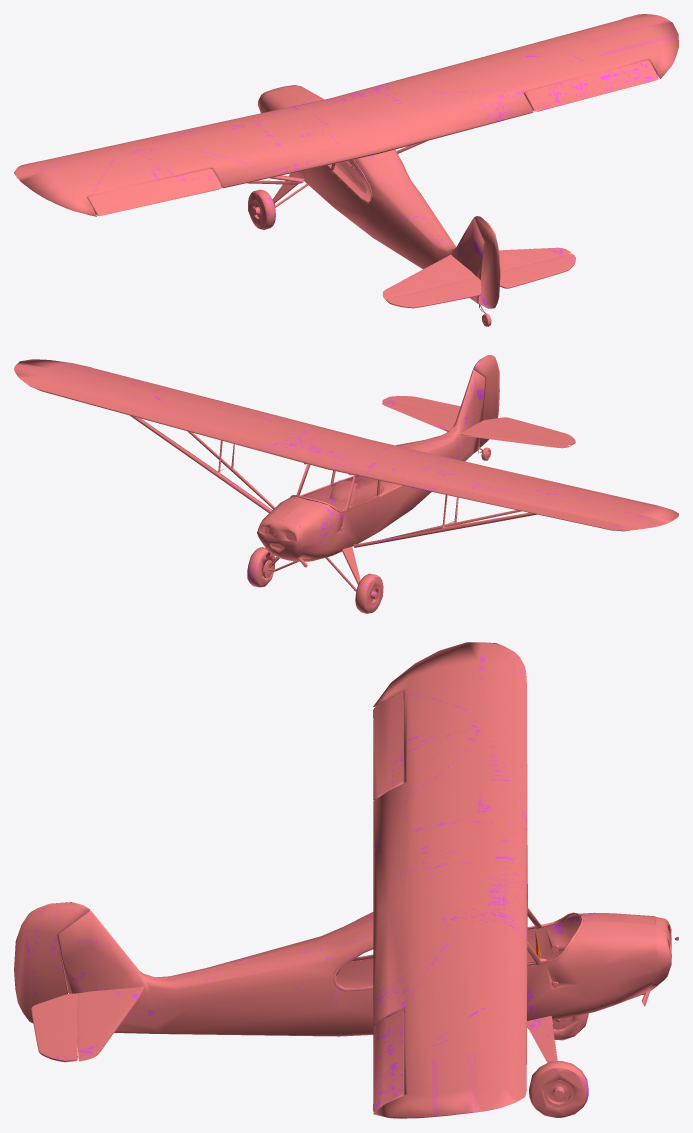
The model's file is airplane3.glb.
3 views of the same model, one above another, from view 1: azimuth 30°, elevation 25°; view 2: azimuth 150°, elevation 25°; view 3: azimuth 270°, elevation 25° (orthographic). The views are drawn at different scales.
Visible parts, largest first — view 1: body_2; view 2: body_2, glass_1; view 3: body_2.
Boxes of the visible parts, x1,y1,x2,y2 form: body_2: (14,14,678,326); body_2: (14,355,678,613); glass_1: (329,478,383,505); body_2: (14,642,678,1118).
Bounding box in the file's own units: 8.11 × 1.63 × 4.84.
Materials: 2 (2 with a texture image).
